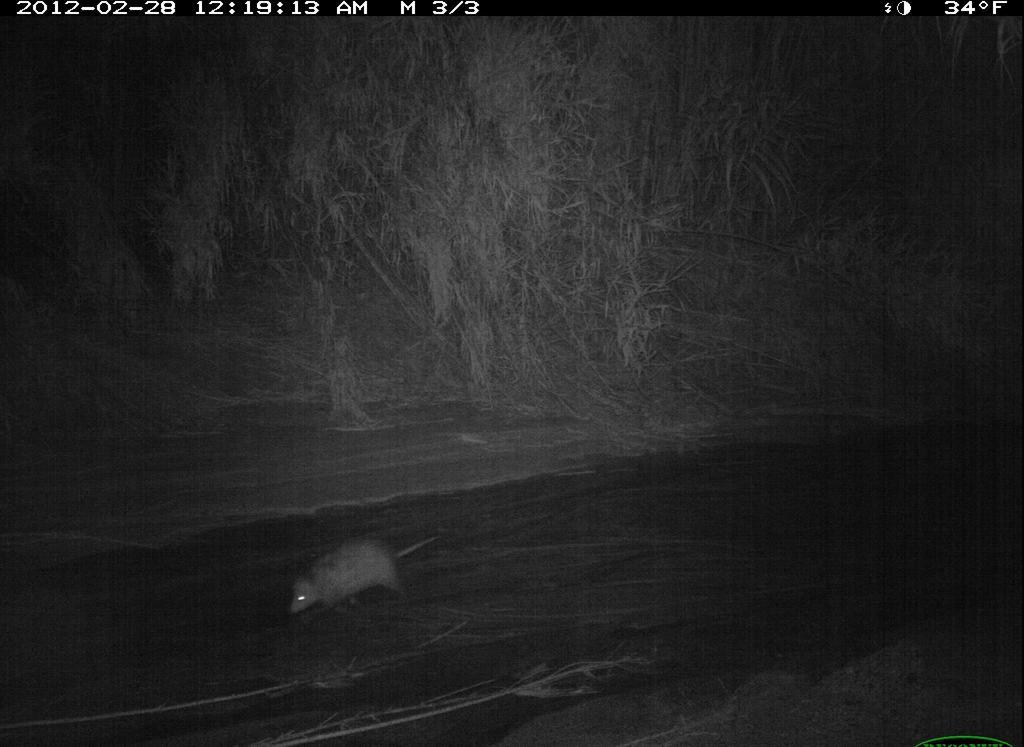opossum: (277, 521, 465, 622)
